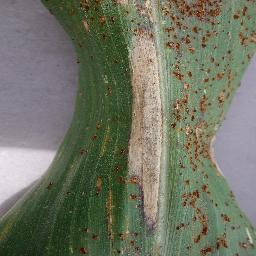Corn_Blight: (123, 0, 164, 226), (170, 92, 234, 155), (165, 0, 224, 50), (170, 51, 243, 91), (77, 0, 119, 44), (104, 146, 122, 225), (232, 1, 256, 50), (188, 209, 211, 250), (221, 188, 242, 227), (113, 230, 145, 255), (201, 227, 229, 255), (176, 156, 225, 171), (80, 225, 107, 241), (197, 168, 211, 198), (238, 234, 256, 255), (40, 0, 58, 20), (183, 188, 197, 211), (92, 171, 104, 197), (72, 53, 94, 66), (91, 117, 101, 145), (109, 113, 121, 132), (75, 145, 91, 156), (44, 178, 56, 191), (104, 57, 122, 65), (105, 85, 117, 97), (75, 246, 89, 256), (66, 6, 76, 17), (175, 221, 184, 233), (179, 180, 192, 186)
